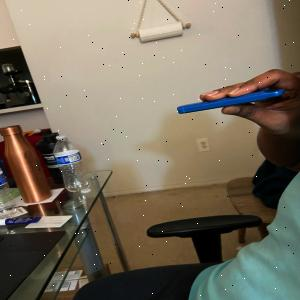Blume-E-Ciggirate: (172, 85, 287, 117)
